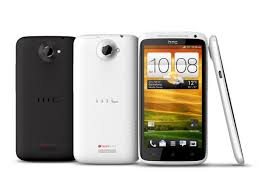htc: (135, 33, 208, 166), (69, 30, 142, 163), (12, 33, 75, 162)
